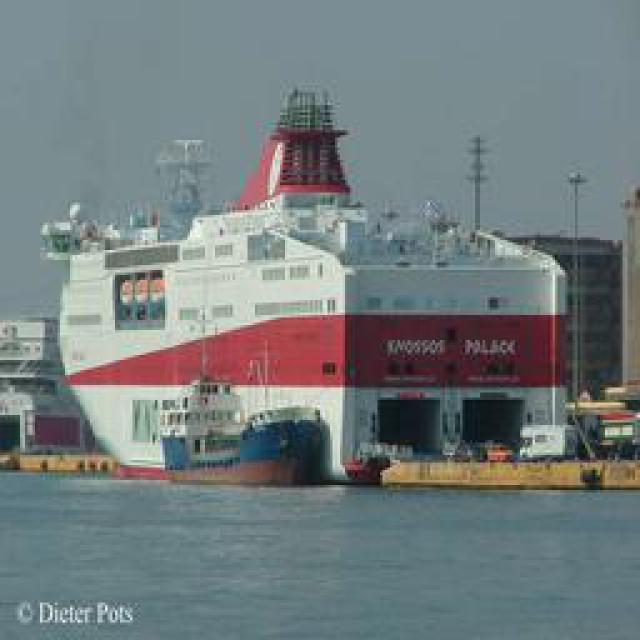Ship: (43, 86, 578, 479)
